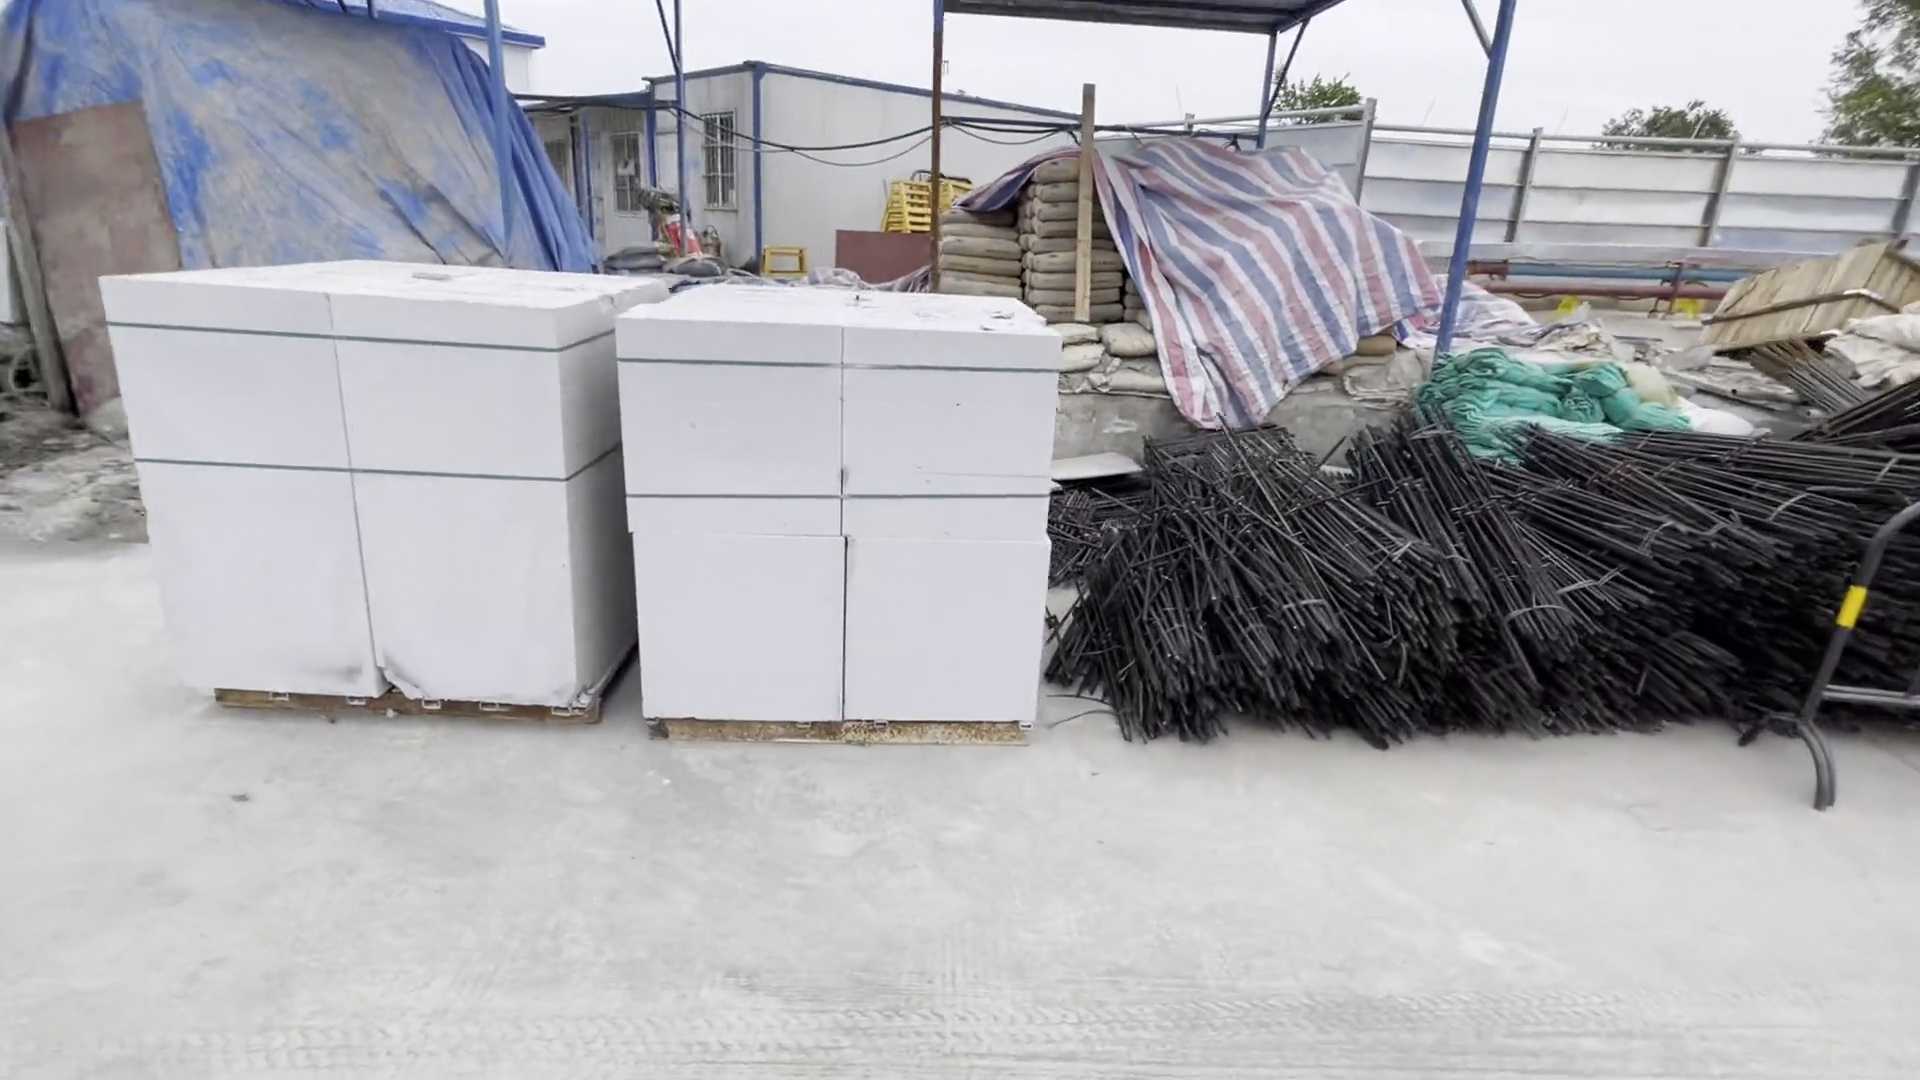brick: (91, 243, 640, 765), (603, 256, 1065, 767)
